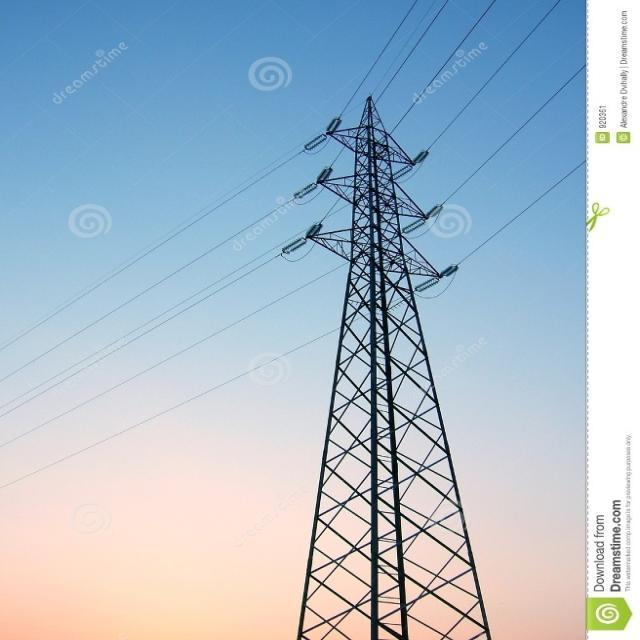non-critical vegetation: (268, 90, 498, 588)
